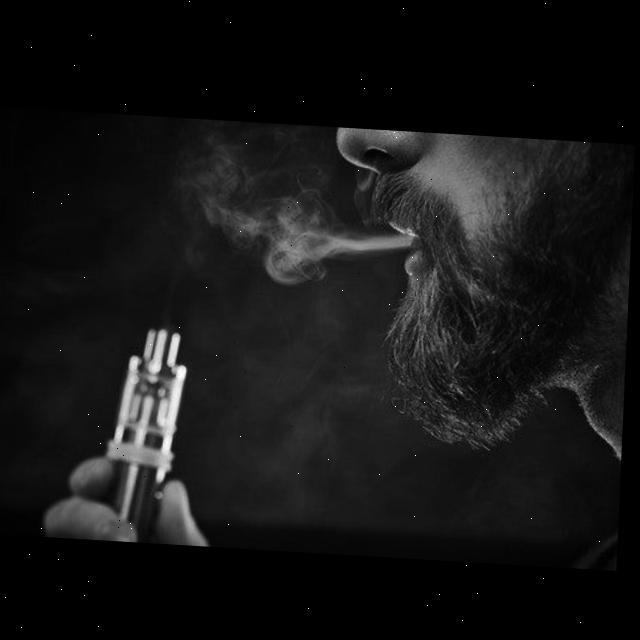vape: (100, 308, 197, 544)
